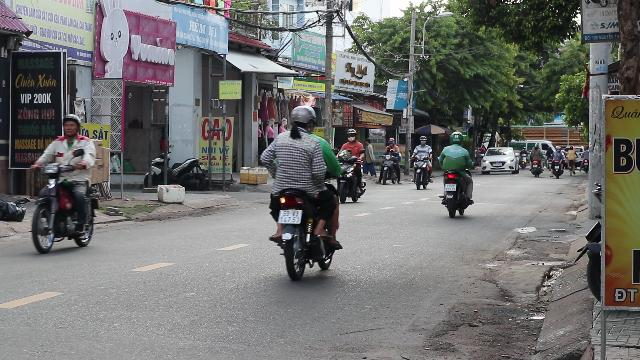helmet: (288, 105, 316, 133), (61, 113, 81, 137)
licenseplate: (279, 210, 301, 224)
motorcyclist: (260, 103, 346, 280), (26, 113, 108, 255)
